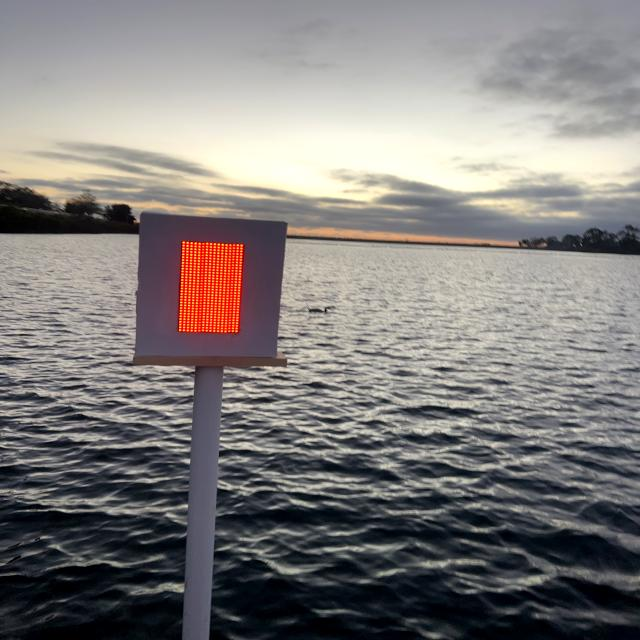led: (147, 216, 263, 358)
